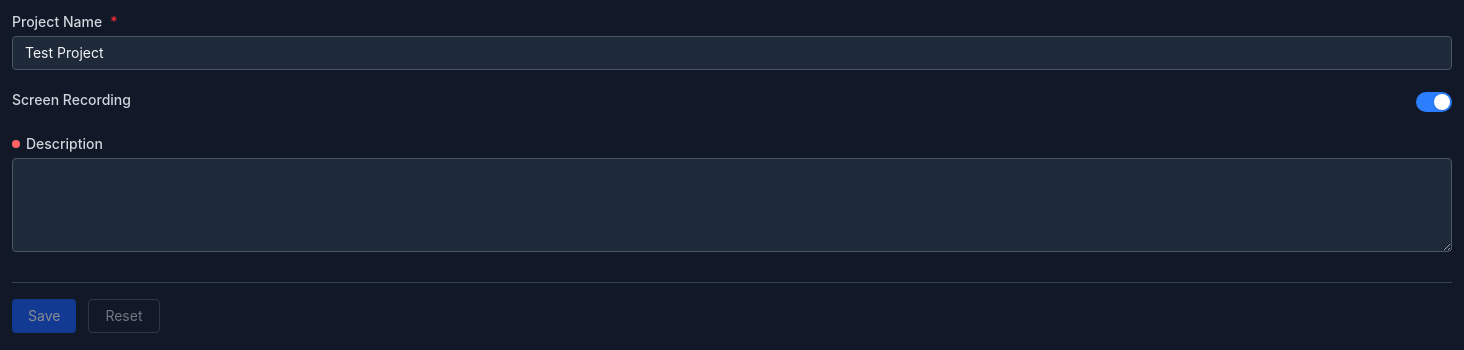
Test case: DynamicForm › resets to initial values
Replace the text in the field showing "Test Project" with "Changed" at (732, 53), box 12,36 -> 1452,70
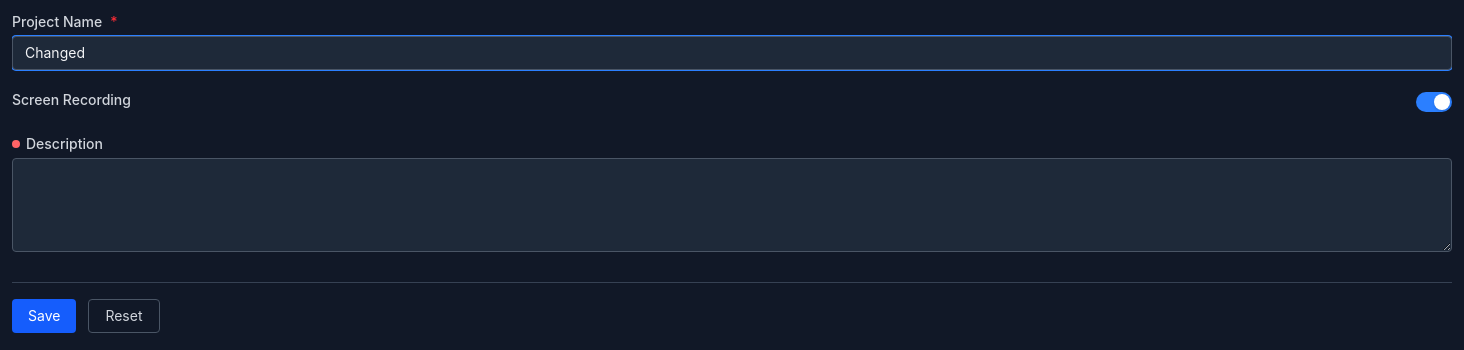
Click the button "Reset" at (124, 316), box 88,299 -> 160,333
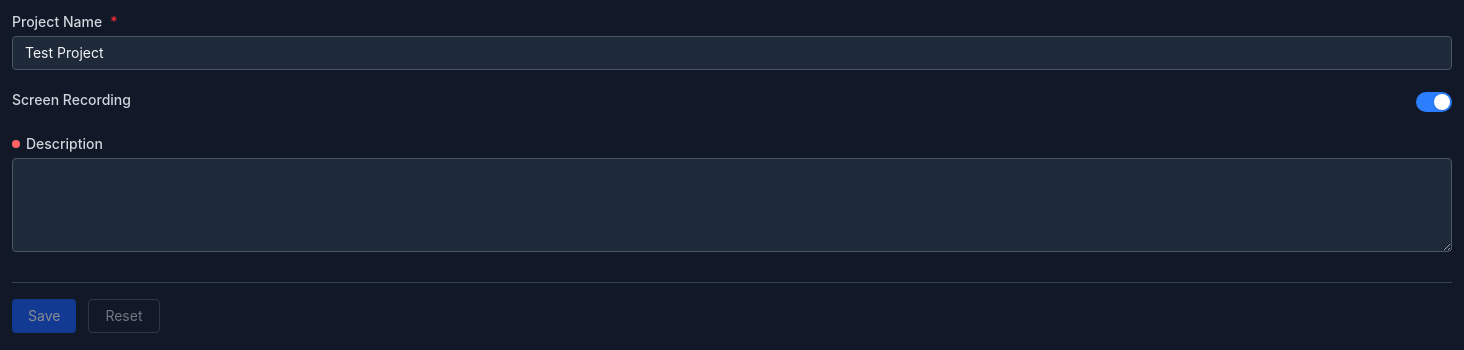
Now the field showing "Test Project" is shown, box 12,36 -> 1452,70
Now the button "Save" is disabled, box 12,299 -> 76,333
